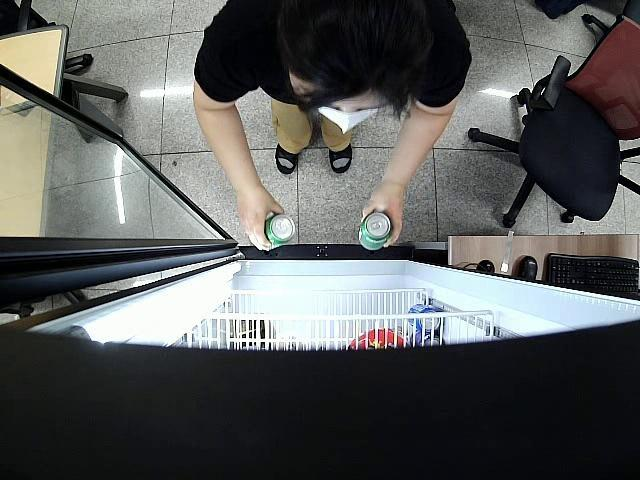12_chilsungCider: (358, 214, 392, 248), (264, 216, 294, 245)
